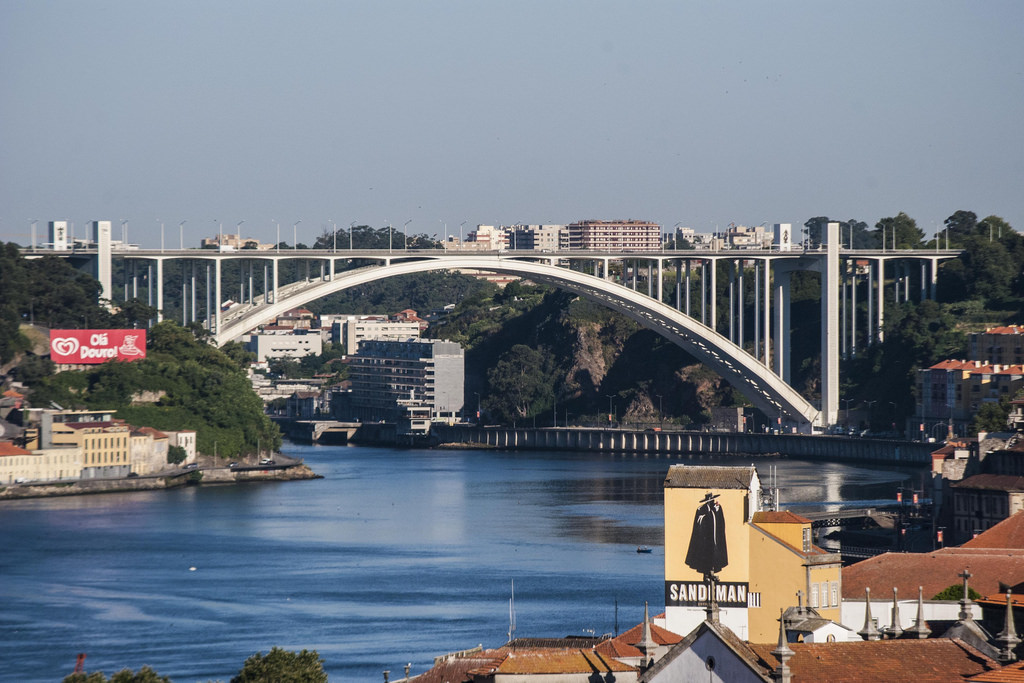arrabida: (23, 219, 965, 437)
